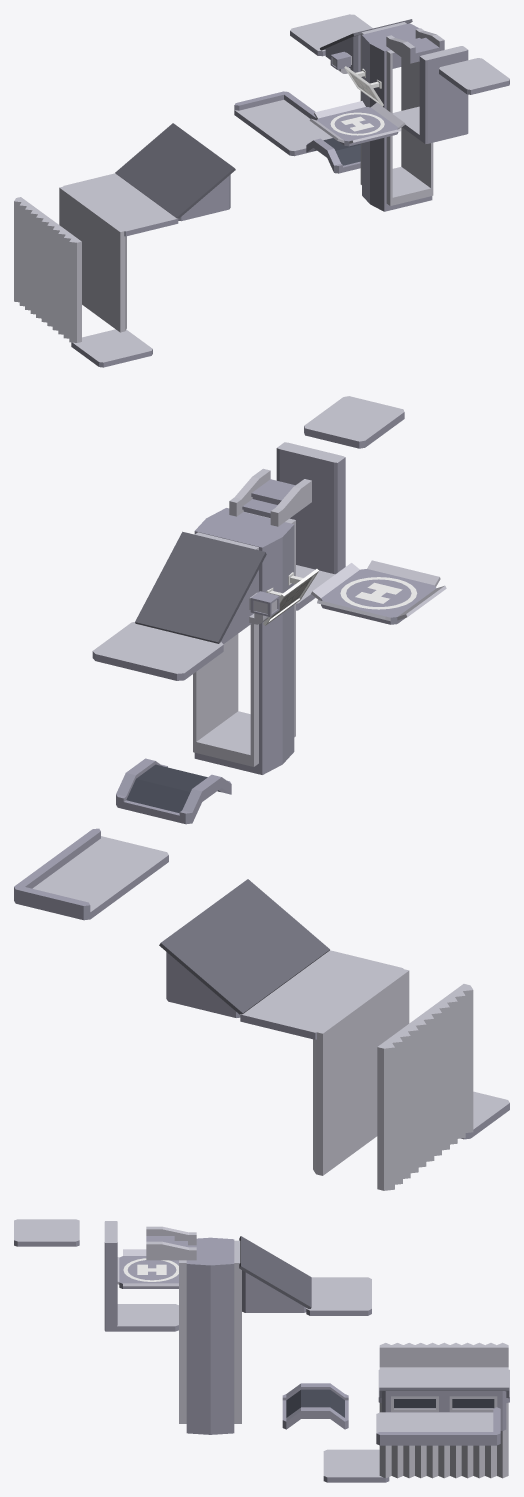
Rendered from ChrisBlueLevel2.fbx.
The picture shows the model from 3 angles, top to bottom: view 1: azimuth 30°, elevation 25°; view 2: azimuth 150°, elevation 25°; view 3: azimuth 270°, elevation 25°; orthographic projection. The views are drawn at different scales.
Visible parts, largest first — view 1: wall_garageDoor_89, roof_factorySlant_80, roof_square_102, roof_square_66, roof_factorySlant_81, roof_helipad_91, roof_corner_86, roof_square_45, roof_square_103, roof_square_94, roof_side_85, wall_border_58 (+23 smaller); view 2: wall_garageDoor_89, roof_factorySlant_93, roof_factorySlant_81, roof_square_66, roof_square_102, roof_helipad_91, roof_factorySlant_80, roof_square_94, roof_window_87, roof_corner_86, roof_side_85, roof_square_103 (+22 smaller); view 3: wall_garageDoor_89, roof_factorySlant_93, roof_square_66, roof_window_87, roof_square_94, roof_side_85, roof_corner_86, roof_helipad_91, roof_square_45, roof_square_103, roof_factorySlant_81, roof_square_92 (+26 smaller).
Part boxes in pixels (bbox=[...]): wall_garageDoor_89: bbox=[360, 37, 433, 211]; roof_factorySlant_80: bbox=[143, 143, 235, 221]; roof_square_102: bbox=[419, 46, 468, 143]; roof_square_66: bbox=[63, 173, 178, 236]; roof_factorySlant_81: bbox=[115, 123, 206, 196]; roof_helipad_91: bbox=[309, 101, 405, 146]; roof_corner_86: bbox=[234, 91, 315, 134]; roof_square_45: bbox=[71, 329, 152, 367]; roof_square_103: bbox=[439, 58, 509, 94]; roof_square_94: bbox=[290, 14, 372, 56]; roof_side_85: bbox=[262, 111, 332, 156]; wall_border_58: bbox=[69, 227, 126, 292]; wall_garageDoor_89: bbox=[193, 527, 295, 774]; roof_factorySlant_93: bbox=[135, 531, 266, 643]; roof_factorySlant_81: bbox=[159, 908, 290, 1017]; roof_square_66: bbox=[240, 950, 403, 1039]; roof_square_102: bbox=[276, 442, 345, 574]; roof_helipad_91: bbox=[311, 560, 446, 624]; roof_factorySlant_80: bbox=[209, 879, 329, 984]; roof_square_94: bbox=[92, 622, 223, 680]; roof_window_87: bbox=[116, 758, 231, 824]; roof_corner_86: bbox=[14, 858, 129, 920]; roof_side_85: bbox=[53, 828, 168, 890]; roof_square_103: bbox=[304, 396, 404, 448]; wall_garageDoor_89: bbox=[179, 1268, 241, 1434]; roof_factorySlant_93: bbox=[239, 1236, 311, 1312]; roof_square_66: bbox=[378, 1368, 509, 1402]; roof_window_87: bbox=[282, 1383, 348, 1429]; roof_square_94: bbox=[306, 1277, 371, 1315]; roof_side_85: bbox=[376, 1412, 441, 1445]; roof_corner_86: bbox=[434, 1407, 500, 1445]; roof_helipad_91: bbox=[117, 1249, 178, 1288]; roof_square_45: bbox=[323, 1449, 389, 1482]; roof_square_103: bbox=[14, 1219, 79, 1246]; roof_factorySlant_81: bbox=[439, 1387, 509, 1430]; roof_square_92: bbox=[117, 1304, 178, 1331].
Size of the model in its own units: 57.78 by 66 by 84.88.
6 materials, 1 textured.
